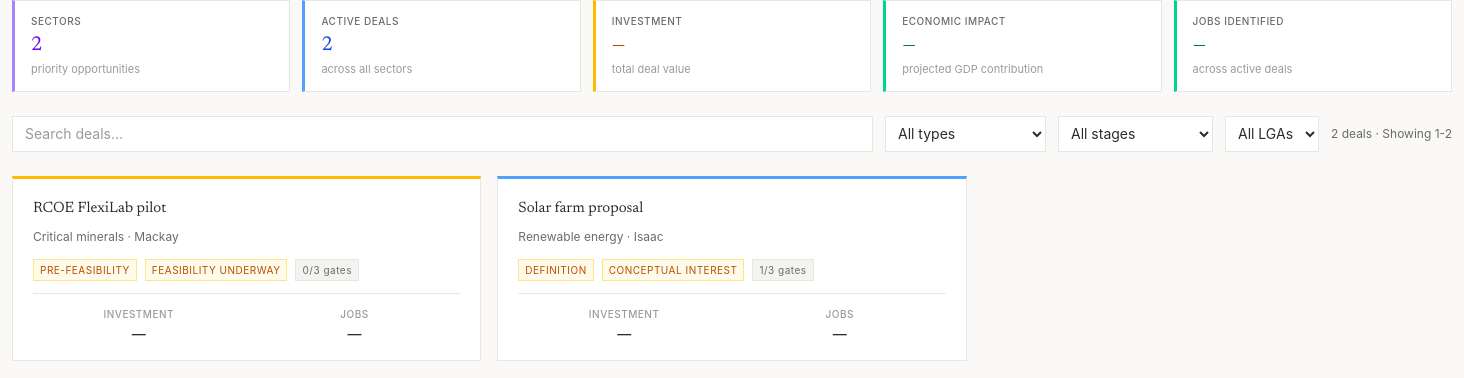
Test: DealsSearch › filters by deal name
This screenshot has width=1464, height=378.
Type "solar" into the search field with test id "deals-search-input" at (442, 134), box top-left (12, 116), bottom-right (873, 152)
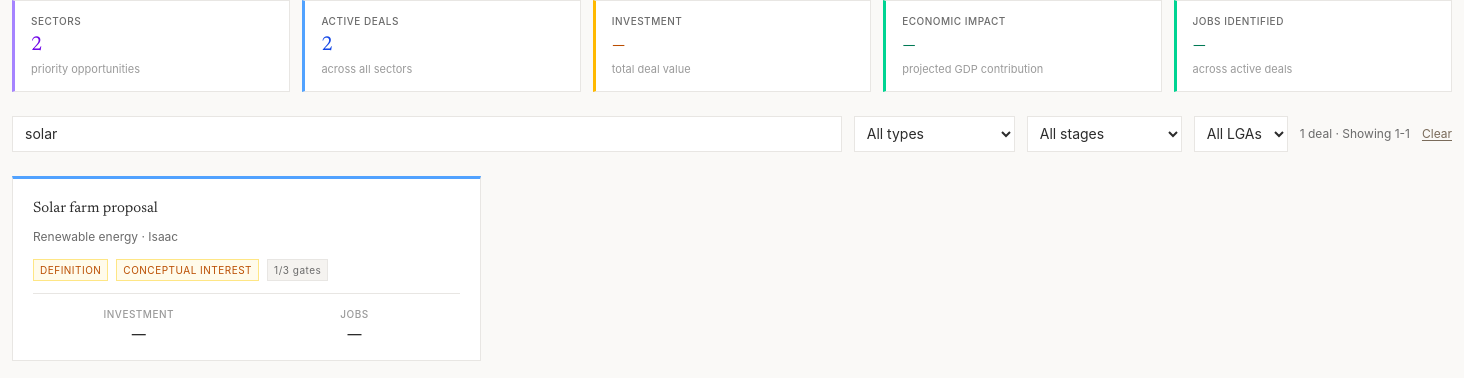
Expected: the heading "Solar farm proposal" is shown, top-left (33, 201), bottom-right (158, 216)
Expected: the message with test id "deals-count" shows "1 deal", top-left (1300, 126), bottom-right (1410, 142)
Expected: the link "RCOE FlexiLab pilot" is gone
